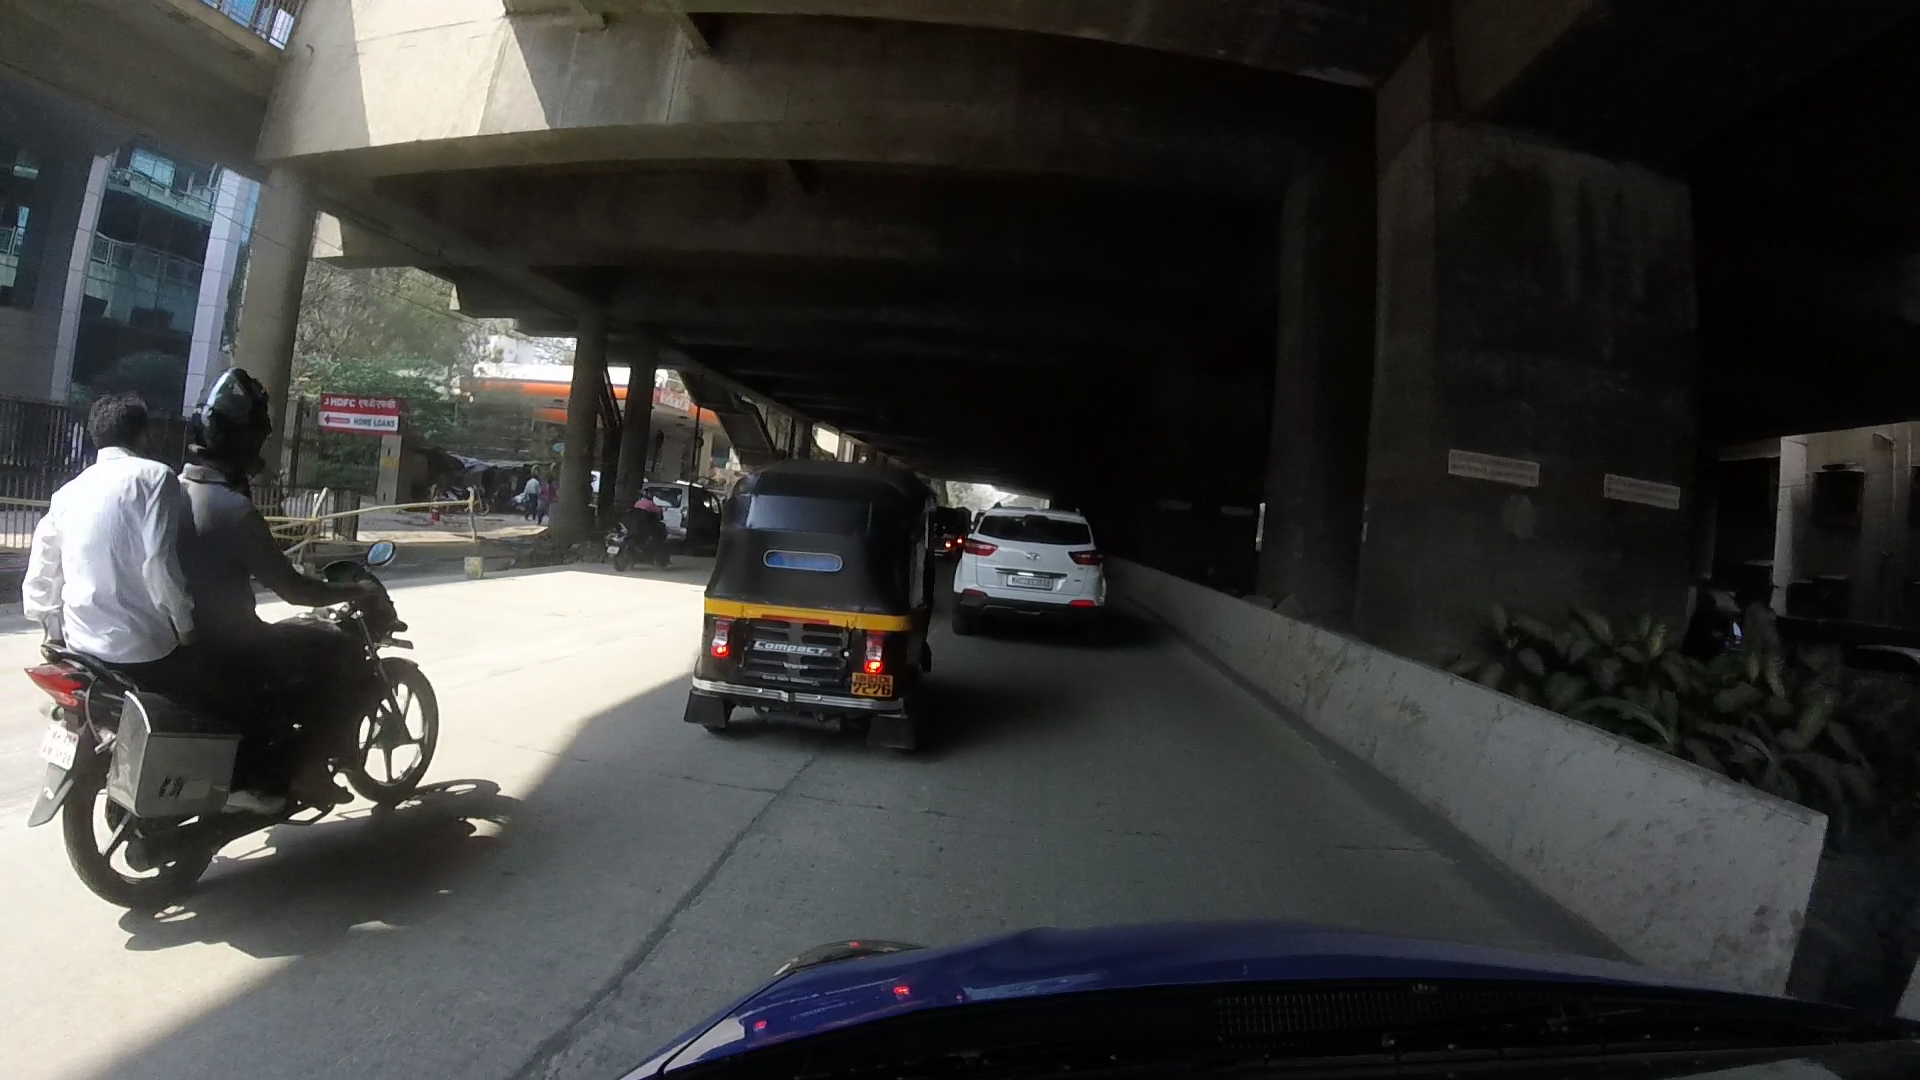bike/scooter: (15, 342, 460, 919)
car: (948, 484, 1127, 642)
rickshaw: (669, 451, 945, 757)
